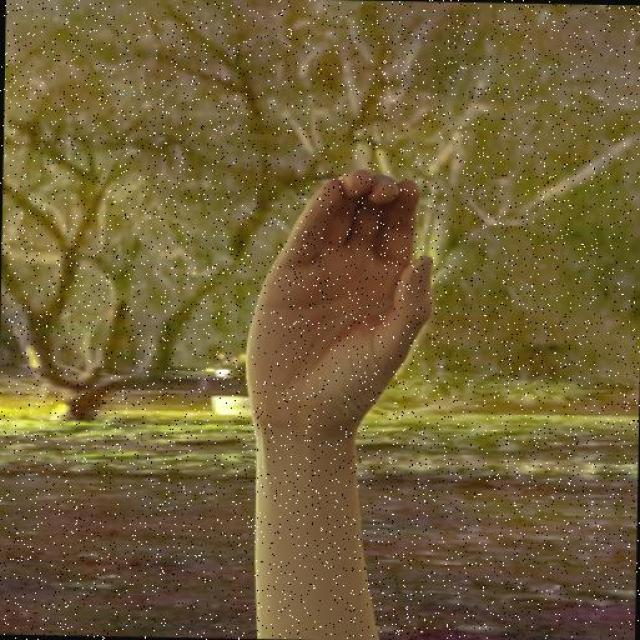C: (229, 166, 446, 444)
